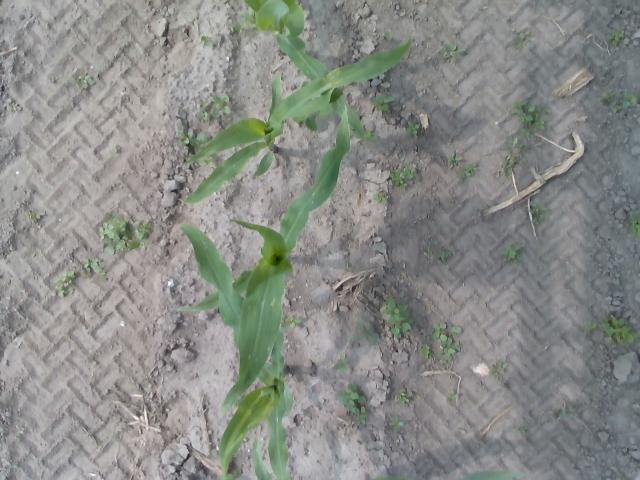Maize: (178, 107, 352, 409), (179, 38, 413, 204), (180, 223, 292, 480), (246, 0, 370, 142), (252, 440, 523, 480)
Weeds: (100, 212, 138, 252), (383, 301, 415, 337), (602, 316, 638, 348), (338, 382, 367, 414), (515, 102, 548, 128), (441, 326, 462, 362), (390, 166, 418, 190), (51, 272, 76, 298), (352, 320, 378, 345), (209, 94, 230, 116), (135, 222, 153, 246), (502, 153, 520, 175), (179, 125, 195, 148), (500, 136, 522, 152), (446, 44, 466, 61), (394, 388, 412, 406), (83, 258, 103, 274), (530, 202, 546, 222), (373, 96, 395, 110), (334, 354, 352, 370), (516, 29, 530, 49), (492, 362, 508, 378), (372, 188, 389, 203), (503, 246, 521, 260), (406, 120, 421, 136), (448, 151, 461, 169), (434, 321, 447, 338), (419, 344, 434, 358), (461, 165, 478, 177), (630, 216, 640, 236), (620, 96, 636, 108), (81, 77, 95, 90), (390, 417, 403, 431), (352, 414, 367, 425), (584, 321, 597, 333), (599, 92, 613, 103), (609, 31, 622, 42), (32, 209, 46, 219), (201, 36, 212, 48), (290, 318, 302, 328), (438, 252, 452, 260), (196, 107, 208, 116), (8, 104, 21, 112), (448, 390, 458, 400), (520, 426, 528, 434)
